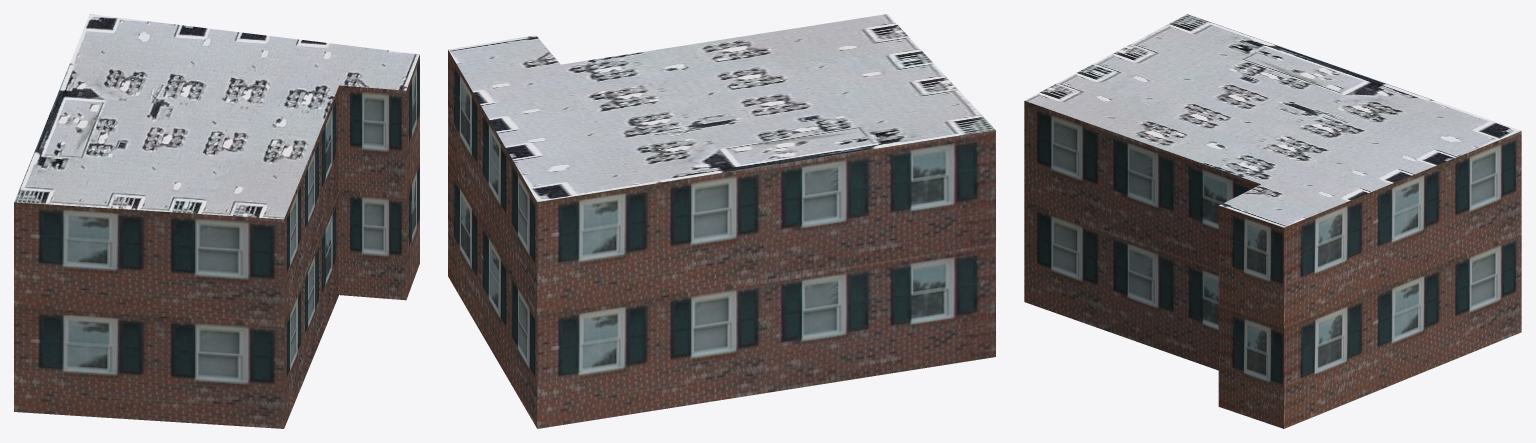
File: ResTex__1608.fbx
The picture shows the model from 3 angles, left to right: view 1: azimuth 30°, elevation 25°; view 2: azimuth 150°, elevation 25°; view 3: azimuth 270°, elevation 25°; orthographic projection. The views are drawn at different scales.
Parts seen in each view (by area): view 1: CityEngineMaterial_14_m, CityEngineMaterial_8_m; view 2: CityEngineMaterial_14_m, CityEngineMaterial_8_m; view 3: CityEngineMaterial_14_m, CityEngineMaterial_8_m.
Part boxes in pixels (x1,y1,x2,y2): CityEngineMaterial_14_m: [14, 54, 419, 428]; CityEngineMaterial_8_m: [14, 14, 419, 219]; CityEngineMaterial_14_m: [448, 50, 995, 428]; CityEngineMaterial_8_m: [448, 14, 995, 201]; CityEngineMaterial_14_m: [1024, 101, 1521, 428]; CityEngineMaterial_8_m: [1024, 14, 1520, 227].
Size of the model in its own units: 13.66 by 6 by 13.44.
Materials: 2 (2 with a texture image).
